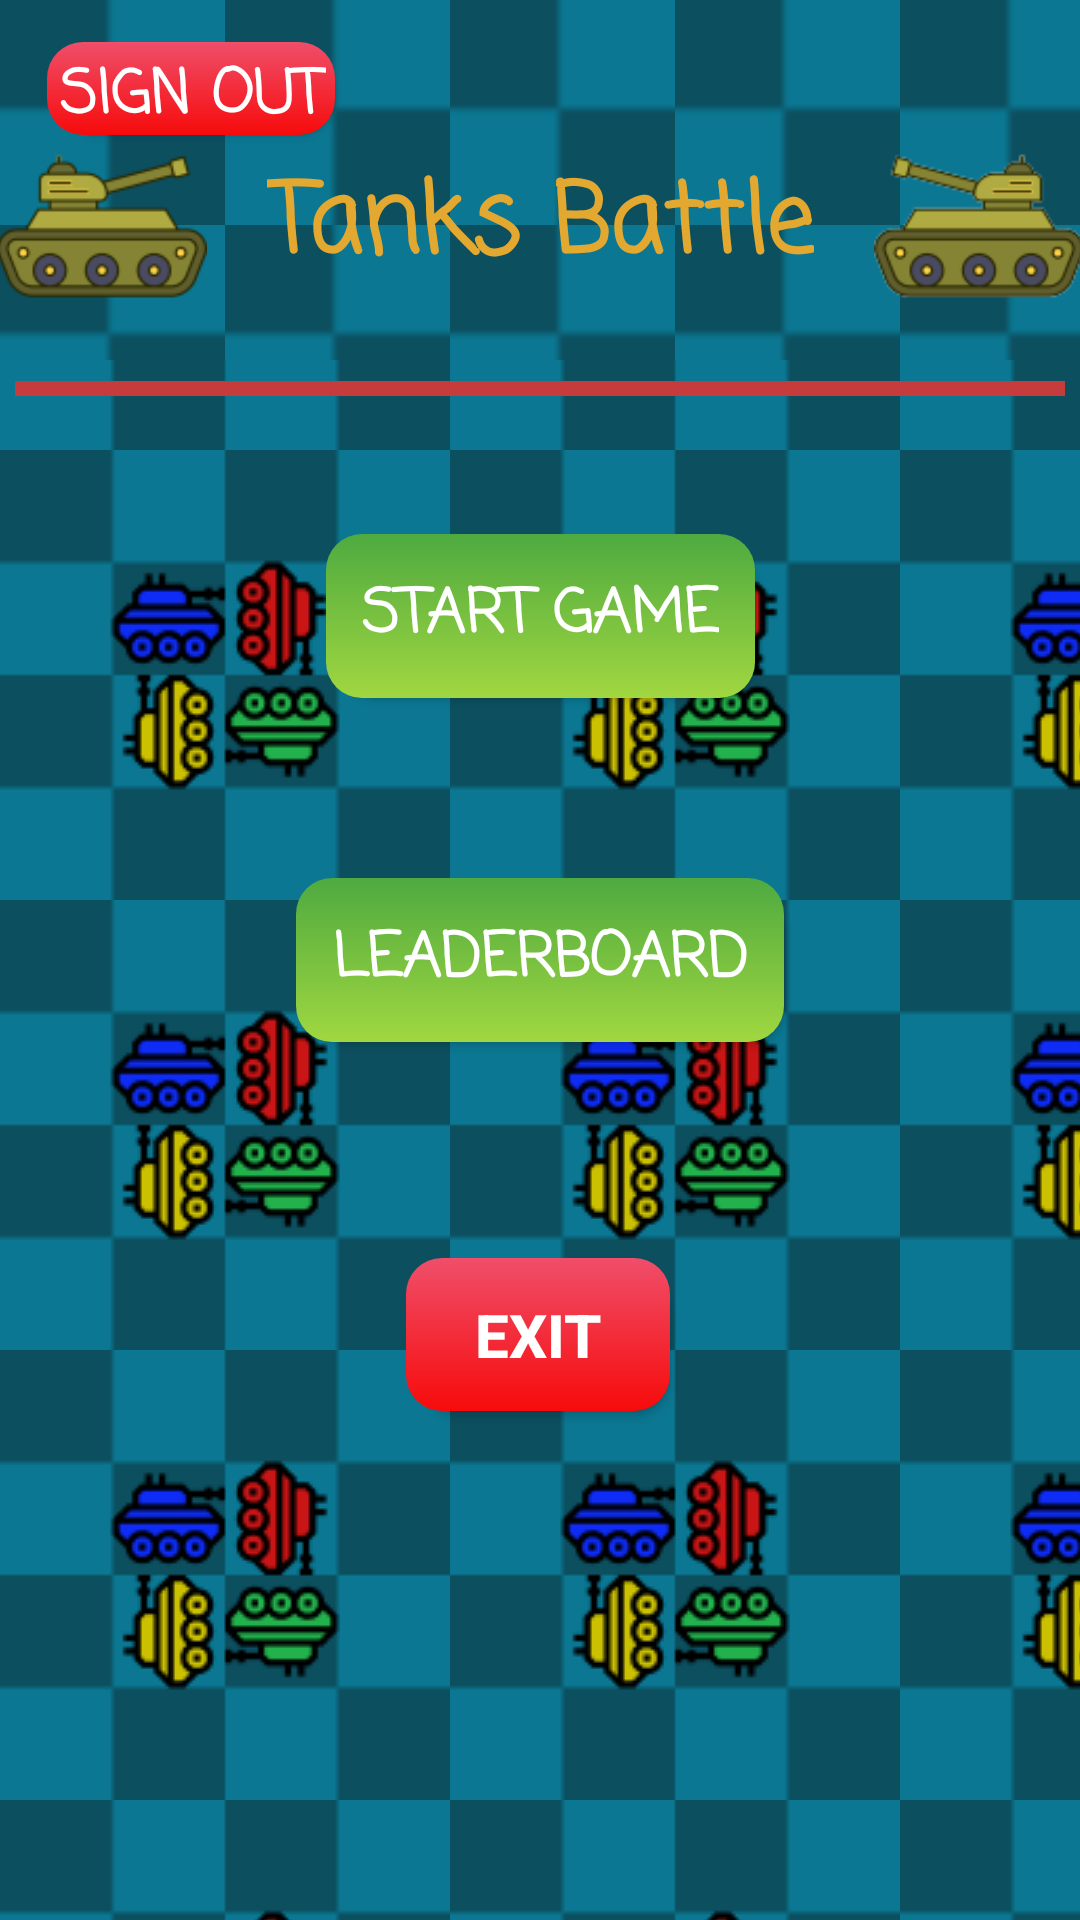

Named icons in this screenshot (1080×1920) and their centers, [x,y]:
mirror tank: [977,226]
